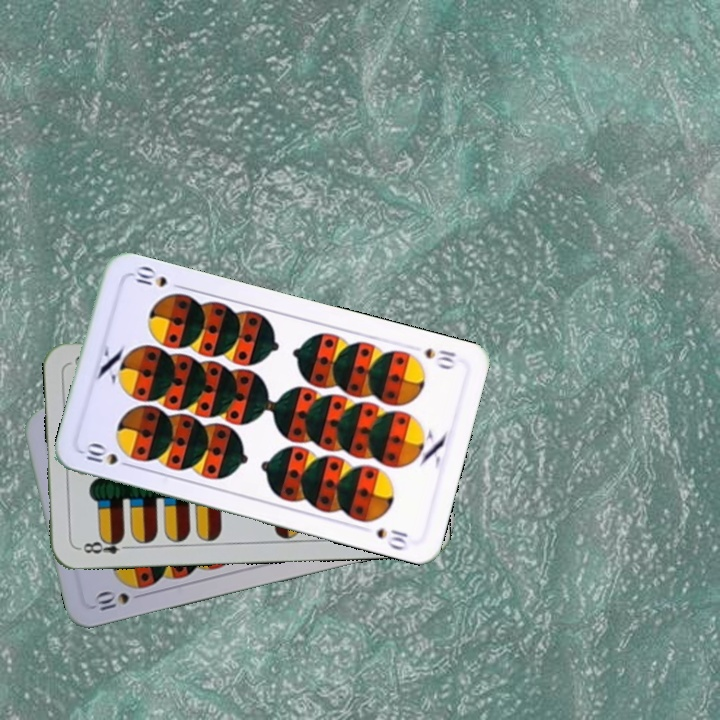E8: (75, 533, 134, 557)
S10: (82, 440, 136, 471), (89, 588, 132, 614), (421, 343, 459, 372)
